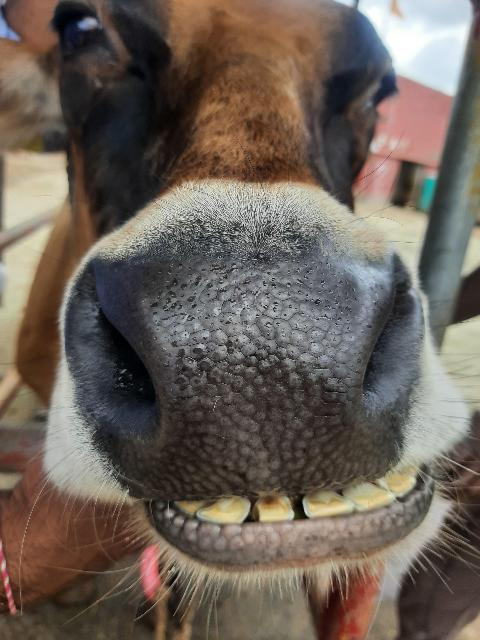Muzzle: (130, 268, 371, 490)
